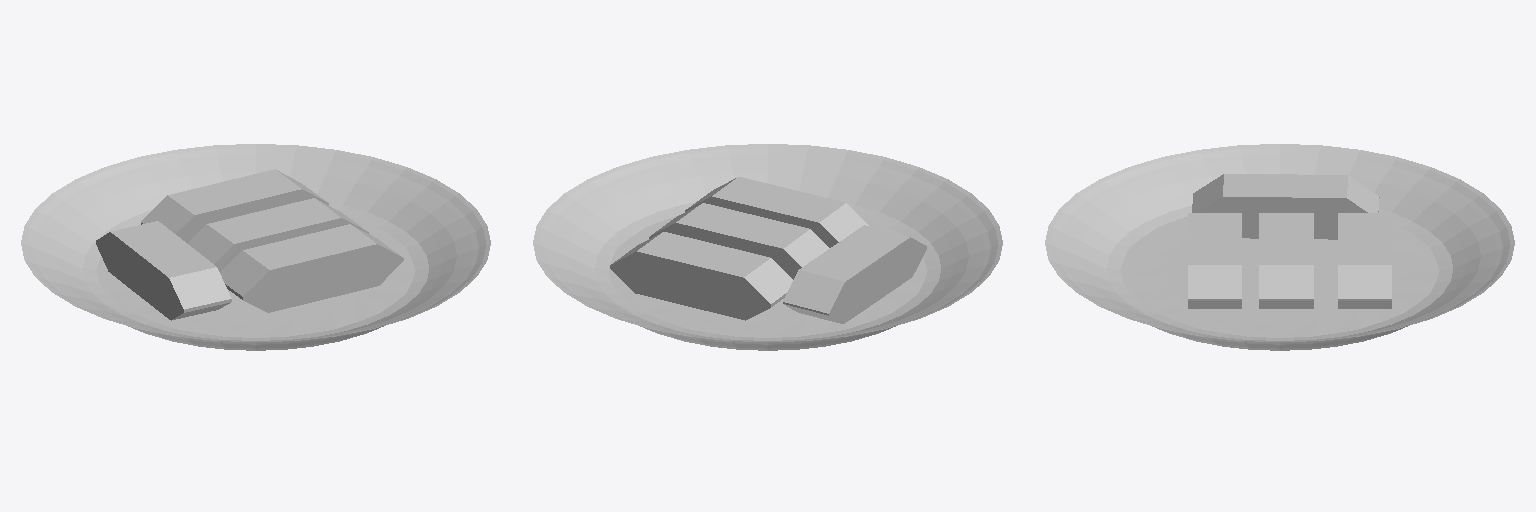
Rendered from KUE KETIMUS'.obj.
3 views of the same model, side by side, from view 1: azimuth 30°, elevation 25°; view 2: azimuth 150°, elevation 25°; view 3: azimuth 270°, elevation 25° (orthographic).
Parts seen in each view (by area): view 1: Cylinder, Cube.002, Cube.003, Cube, Cube.001; view 2: Cylinder, Cube, Cube.003, Cube.001, Cube.002; view 3: Cylinder, Cube.003, Cube.001, Cube, Cube.002.
Boxes of the visible parts, x1,y1,x2,y2 form: Cylinder: [21, 144, 490, 350]; Cube.002: [220, 224, 403, 312]; Cube.003: [96, 221, 231, 320]; Cube: [141, 169, 328, 242]; Cube.001: [187, 198, 368, 271]; Cylinder: [533, 144, 1002, 350]; Cube: [610, 232, 792, 320]; Cube.003: [783, 225, 926, 323]; Cube.001: [649, 203, 829, 279]; Cube.002: [685, 177, 868, 247]; Cylinder: [1045, 144, 1514, 350]; Cube.003: [1192, 174, 1379, 239]; Cube.001: [1259, 213, 1313, 308]; Cube: [1338, 213, 1391, 308]; Cube.002: [1188, 213, 1241, 308].
Size of the model in its own units: 2.31 by 0.2963 by 2.31.